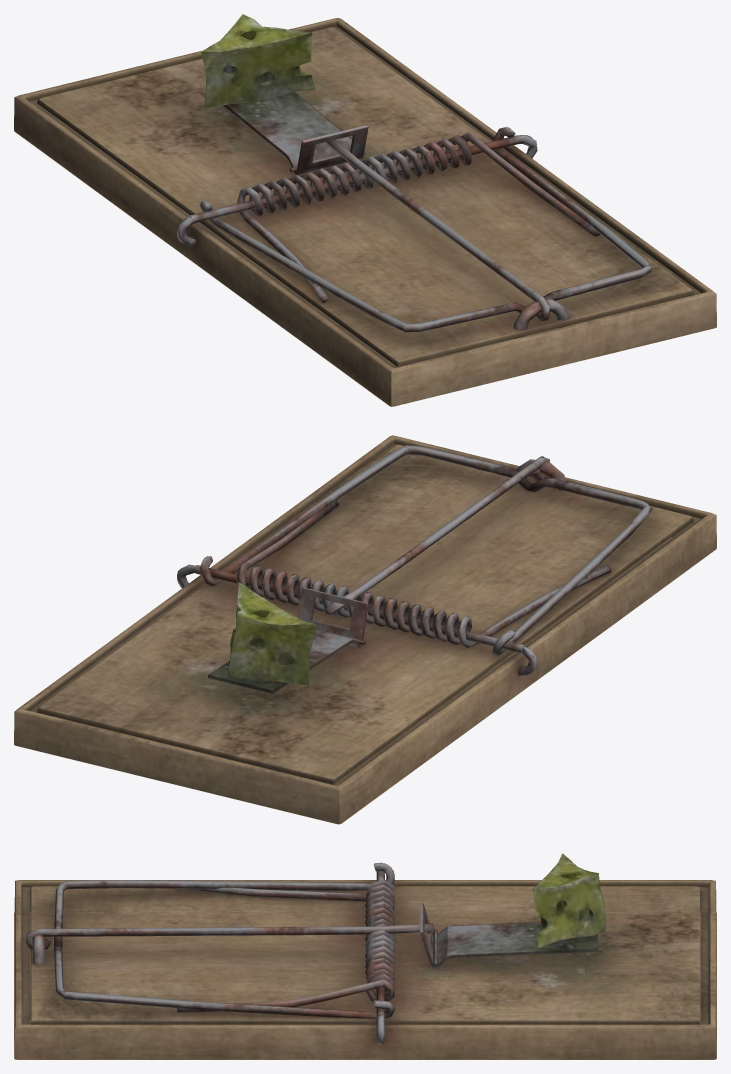
Rendered from mousetrap.glb.
3 renders of one model, top to bottom at view 1: azimuth 30°, elevation 25°; view 2: azimuth 150°, elevation 25°; view 3: azimuth 270°, elevation 25°, orthographic. The views are drawn at different scales.
Visible parts, largest first — view 1: mousetrap; view 2: mousetrap; view 3: mousetrap.
Boxes of the visible parts, box(x1,y1,x2,y2) form: mousetrap: box(14, 14, 716, 406); mousetrap: box(14, 435, 716, 824); mousetrap: box(14, 853, 716, 1059).
Bounding box in the file's own units: 0.055 × 0.0179 × 0.1004.
Materials: 1 (1 with a texture image).
